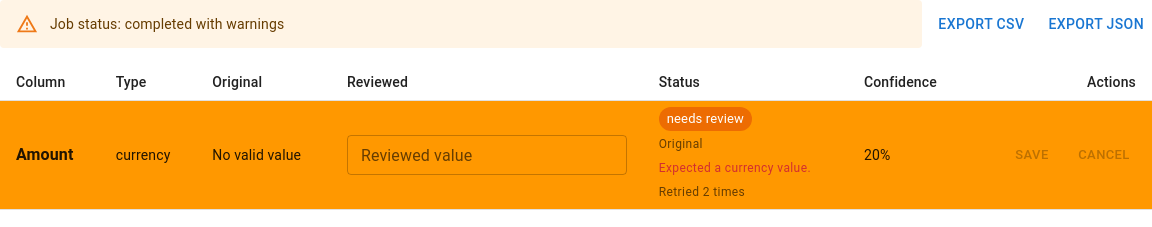
Test case: ParsingResults › saves a reviewed correction and exposes export actions
The image size is (1152, 227).
Type "1234.50" into the number field labelled "Reviewed value" at (487, 155), box x1=347 y1=135 x2=627 y2=175
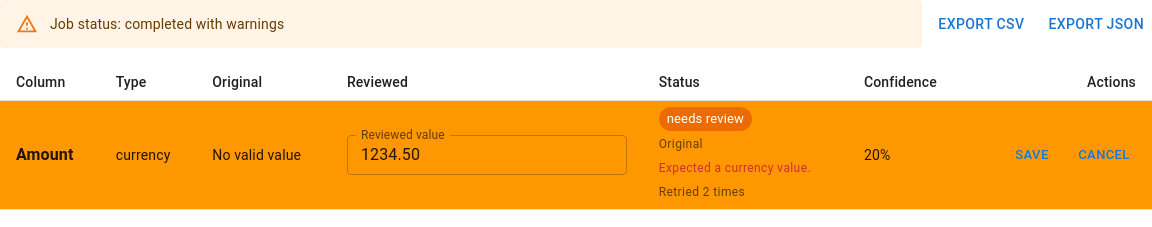
Click the button "Save" at (1032, 155), box x1=1000 y1=140 x2=1064 y2=170
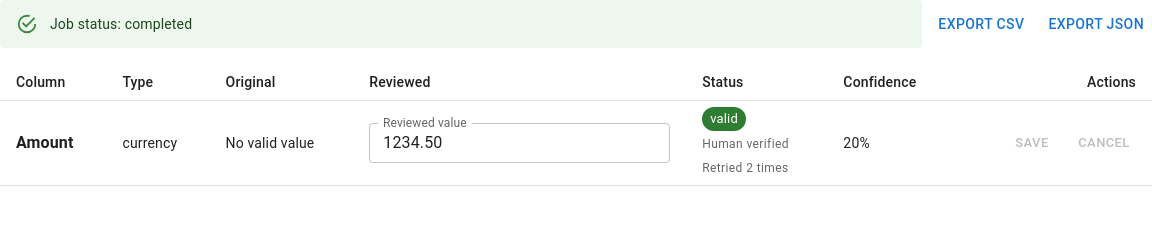
Result: the text "Human verified" is shown at x1=702 y1=137 x2=789 y2=151
